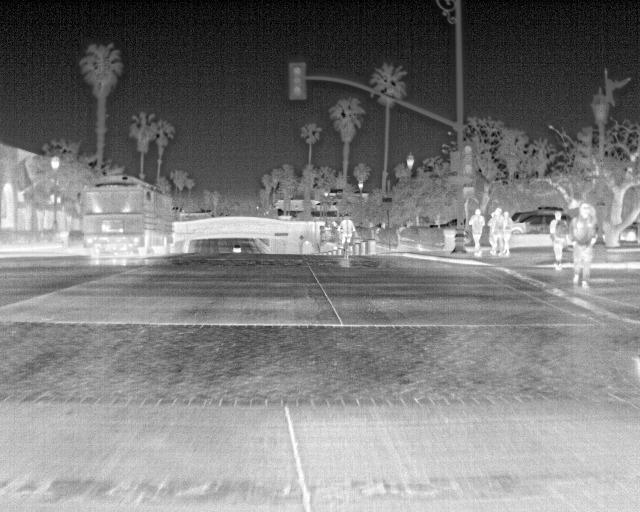bicycle: (513, 212, 547, 233)
empty: (571, 204, 599, 290), (548, 209, 568, 264), (498, 209, 514, 258), (468, 207, 483, 257), (489, 208, 504, 255), (336, 217, 358, 249)
